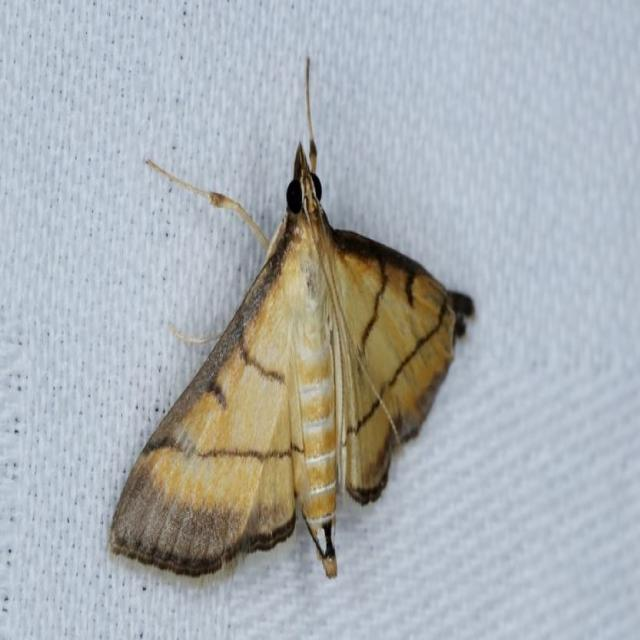rice leaf roller -penggulung daun padi-: (106, 54, 476, 582)
